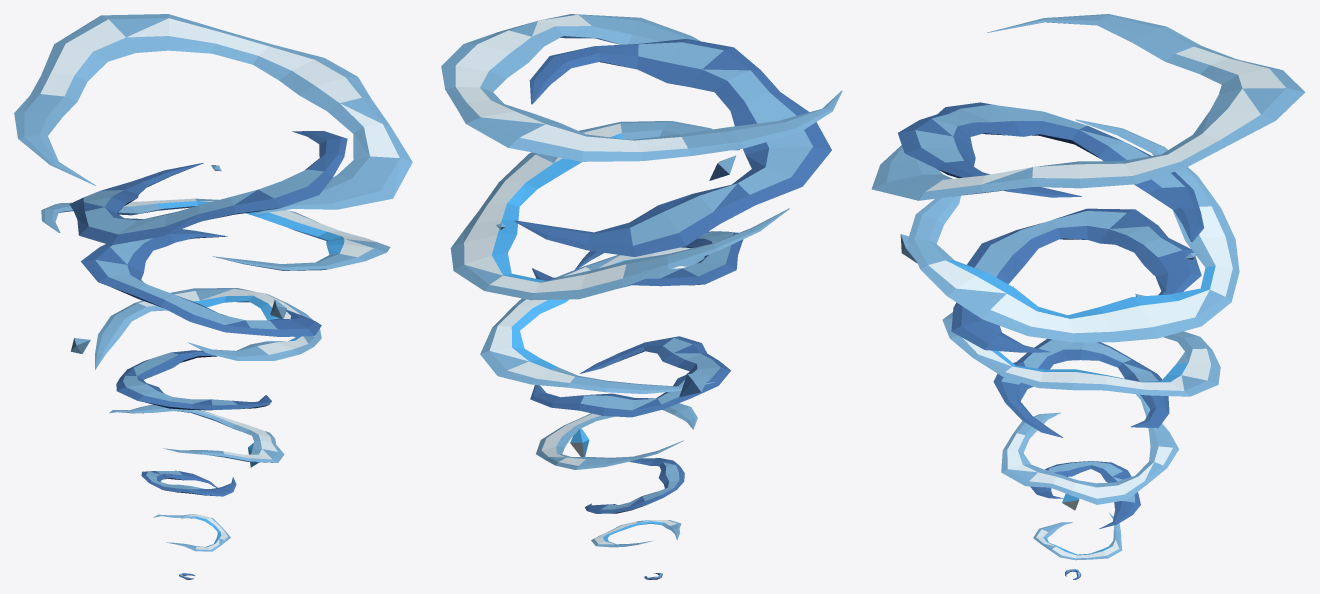
The model's file is Breeze.fbx.
3 views of the same model, side by side, from view 1: azimuth 30°, elevation 25°; view 2: azimuth 150°, elevation 25°; view 3: azimuth 270°, elevation 25° (orthographic). The views are drawn at different scales.
Parts seen in each view (by area): view 1: Wind_Ribbon_10, Wind_Ribbon_09, Wind_Ribbon_07, Wind_Ribbon_06, Wind_Ribbon_08, Wind_Ribbon_05, Wind_Ribbon_04, Wind_Ribbon_03, Wind_Ribbon_02; view 2: Wind_Ribbon_09, Wind_Ribbon_10, Wind_Ribbon_08, Wind_Ribbon_06, Wind_Ribbon_05, Wind_Ribbon_07, Wind_Ribbon_04, Wind_Ribbon_03, Wind_Ribbon_02; view 3: Wind_Ribbon_10, Wind_Ribbon_08, Wind_Ribbon_09, Wind_Ribbon_07, Wind_Ribbon_06, Wind_Ribbon_04, Wind_Ribbon_05, Wind_Ribbon_03, Wind_Ribbon_02.
Boxes of the visible parts, bbox=[...] form: Wind_Ribbon_10: bbox=[14, 14, 412, 214]; Wind_Ribbon_09: bbox=[69, 131, 347, 245]; Wind_Ribbon_07: bbox=[81, 229, 321, 336]; Wind_Ribbon_06: bbox=[95, 288, 321, 369]; Wind_Ribbon_08: bbox=[41, 198, 390, 270]; Wind_Ribbon_05: bbox=[116, 350, 271, 410]; Wind_Ribbon_04: bbox=[109, 404, 284, 462]; Wind_Ribbon_03: bbox=[141, 470, 236, 496]; Wind_Ribbon_02: bbox=[153, 514, 230, 551]; Wind_Ribbon_09: bbox=[514, 38, 831, 256]; Wind_Ribbon_10: bbox=[441, 14, 842, 161]; Wind_Ribbon_08: bbox=[450, 121, 789, 300]; Wind_Ribbon_06: bbox=[480, 247, 715, 393]; Wind_Ribbon_05: bbox=[530, 336, 731, 417]; Wind_Ribbon_07: bbox=[532, 231, 743, 287]; Wind_Ribbon_04: bbox=[536, 403, 697, 469]; Wind_Ribbon_03: bbox=[585, 458, 684, 513]; Wind_Ribbon_02: bbox=[591, 520, 681, 547]; Wind_Ribbon_10: bbox=[871, 14, 1305, 200]; Wind_Ribbon_08: bbox=[907, 119, 1239, 342]; Wind_Ribbon_09: bbox=[898, 102, 1203, 241]; Wind_Ribbon_07: bbox=[951, 208, 1201, 352]; Wind_Ribbon_06: bbox=[942, 286, 1220, 396]; Wind_Ribbon_04: bbox=[1001, 394, 1178, 504]; Wind_Ribbon_05: bbox=[993, 338, 1169, 437]; Wind_Ribbon_03: bbox=[1030, 461, 1140, 528]; Wind_Ribbon_02: bbox=[1033, 513, 1122, 560].
Size of the model in its own units: 333 by 467 by 367.
